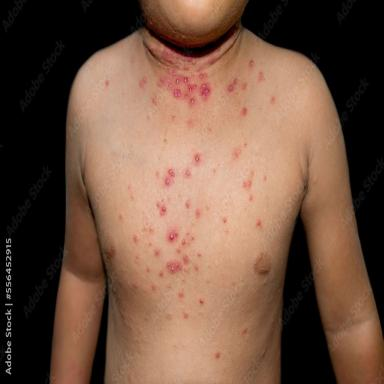Molluscum-Contagiosum: (161, 47, 175, 64), (167, 261, 182, 273), (200, 83, 211, 99), (157, 202, 167, 215), (233, 148, 241, 161), (169, 230, 178, 241), (158, 76, 166, 87), (139, 76, 146, 88), (243, 180, 251, 190), (174, 88, 181, 98), (258, 71, 263, 82), (183, 255, 189, 264), (169, 169, 175, 177), (209, 56, 215, 64), (183, 57, 192, 62), (228, 85, 234, 92), (242, 108, 247, 116), (199, 74, 207, 79), (152, 97, 157, 105), (270, 97, 275, 105), (185, 201, 190, 208), (215, 352, 220, 359), (194, 264, 199, 271), (249, 60, 253, 68), (233, 79, 238, 85), (155, 250, 160, 256), (165, 178, 169, 185), (195, 155, 199, 162), (188, 85, 192, 92), (190, 98, 194, 105), (183, 77, 188, 82), (199, 299, 204, 304), (186, 171, 190, 177), (192, 59, 196, 65), (146, 266, 150, 272), (257, 220, 261, 226), (173, 69, 177, 75), (196, 210, 200, 215), (105, 80, 109, 85), (184, 65, 188, 70), (175, 63, 179, 68), (156, 172, 159, 178), (249, 195, 252, 201), (263, 175, 266, 181), (175, 79, 179, 83), (191, 236, 194, 241), (244, 143, 247, 148), (213, 168, 216, 173), (251, 171, 253, 178), (223, 218, 226, 222), (182, 240, 185, 244), (198, 252, 201, 256), (168, 196, 170, 201), (173, 116, 175, 121)
